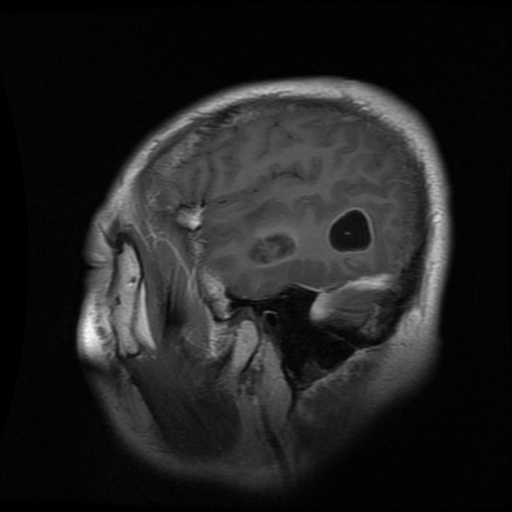glioma: (244, 204, 375, 265)
